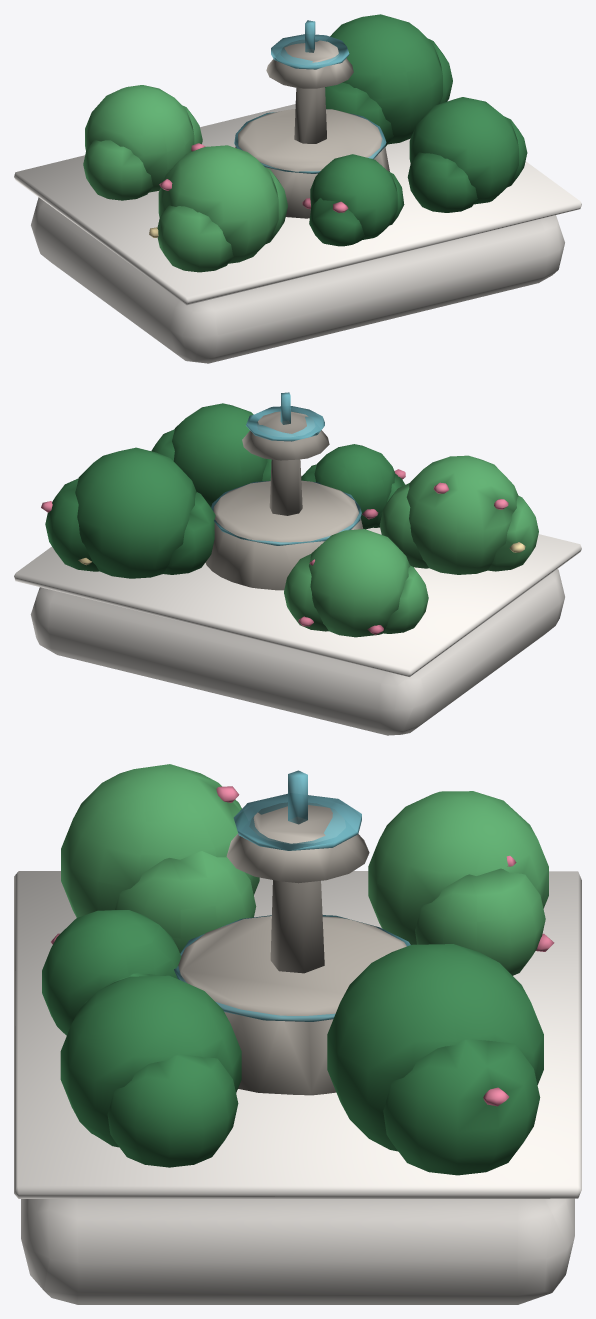
Rendered from fountain.glb.
The picture shows the model from 3 angles, top to bottom: view 1: azimuth 30°, elevation 25°; view 2: azimuth 150°, elevation 25°; view 3: azimuth 270°, elevation 25°; orthographic projection. The views are drawn at different scales.
Parts seen in each view (by area): view 1: fountain; view 2: fountain; view 3: fountain.
Part boxes in pixels (x1=…): fountain: x1=14, y1=14, x2=581, y2=363; fountain: x1=14, y1=392, x2=581, y2=735; fountain: x1=14, y1=764, x2=581, y2=1304.
Size of the model in its own units: 1.64 by 0.97 by 1.24.
